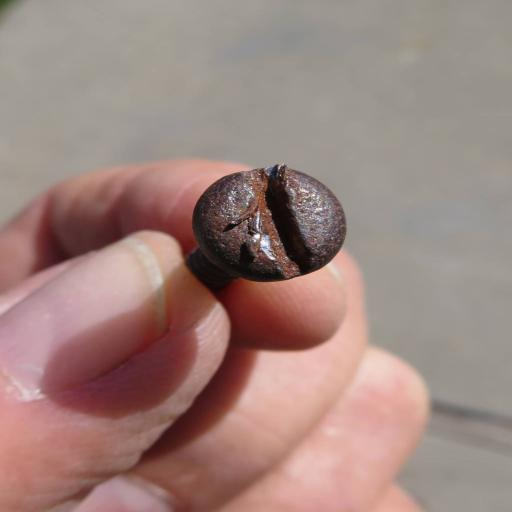Slotted: (197, 158, 354, 285)
